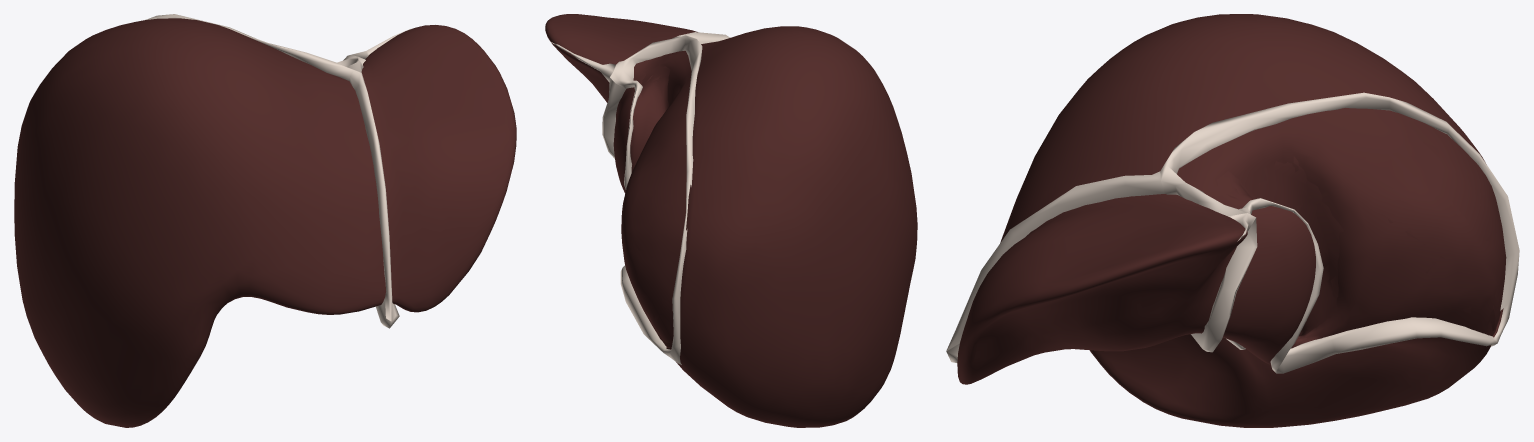
The model's file is liver.glb.
The picture shows the model from 3 angles, left to right: view 1: azimuth 30°, elevation 25°; view 2: azimuth 150°, elevation 25°; view 3: azimuth 270°, elevation 25°; orthographic projection. The views are drawn at different scales.
Bounding box in the file's own units: 0.1913 × 0.1746 × 0.2018.
